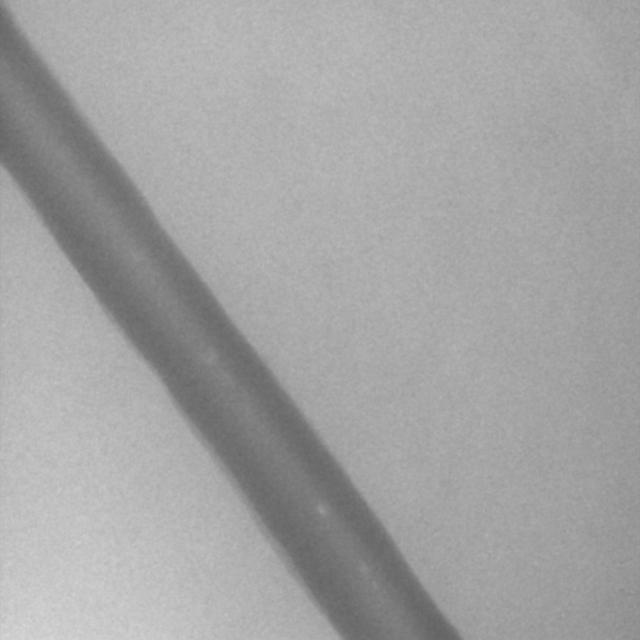air-hole: (314, 495, 336, 521), (201, 344, 219, 364), (131, 245, 145, 268), (358, 560, 368, 568)
